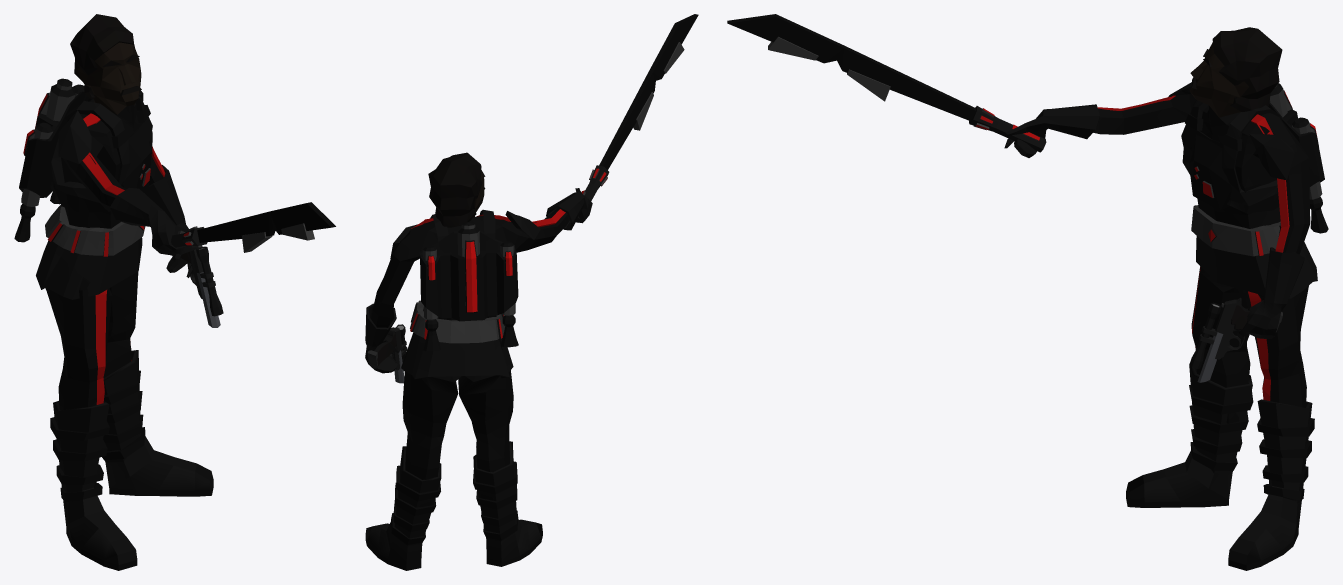
The model's file is MoffGideon_Pose.fbx.
3 views of the same model, side by side, from view 1: azimuth 30°, elevation 25°; view 2: azimuth 150°, elevation 25°; view 3: azimuth 270°, elevation 25° (orthographic). The views are drawn at different scales.
Parts seen in each view (by area): view 1: Moff_Gideon, Dark_Laser, MoffGuideonWeapon1; view 2: Moff_Gideon, Dark_Laser, MoffGuideonWeapon1; view 3: Moff_Gideon, Dark_Laser, MoffGuideonWeapon1.
Part boxes in pixels (x1,y1,x2,y2): Moff_Gideon: (14, 14, 213, 570); Dark_Laser: (171, 202, 335, 252); MoffGuideonWeapon1: (171, 245, 223, 327); Moff_Gideon: (365, 152, 592, 570); Dark_Laser: (576, 14, 698, 222); MoffGuideonWeapon1: (367, 324, 407, 383); Moff_Gideon: (1004, 27, 1328, 570); Dark_Laser: (727, 14, 1046, 152); MoffGuideonWeapon1: (1189, 297, 1282, 382).
Bounding box in the file's own units: 0.7333 × 1.81 × 2.01.
